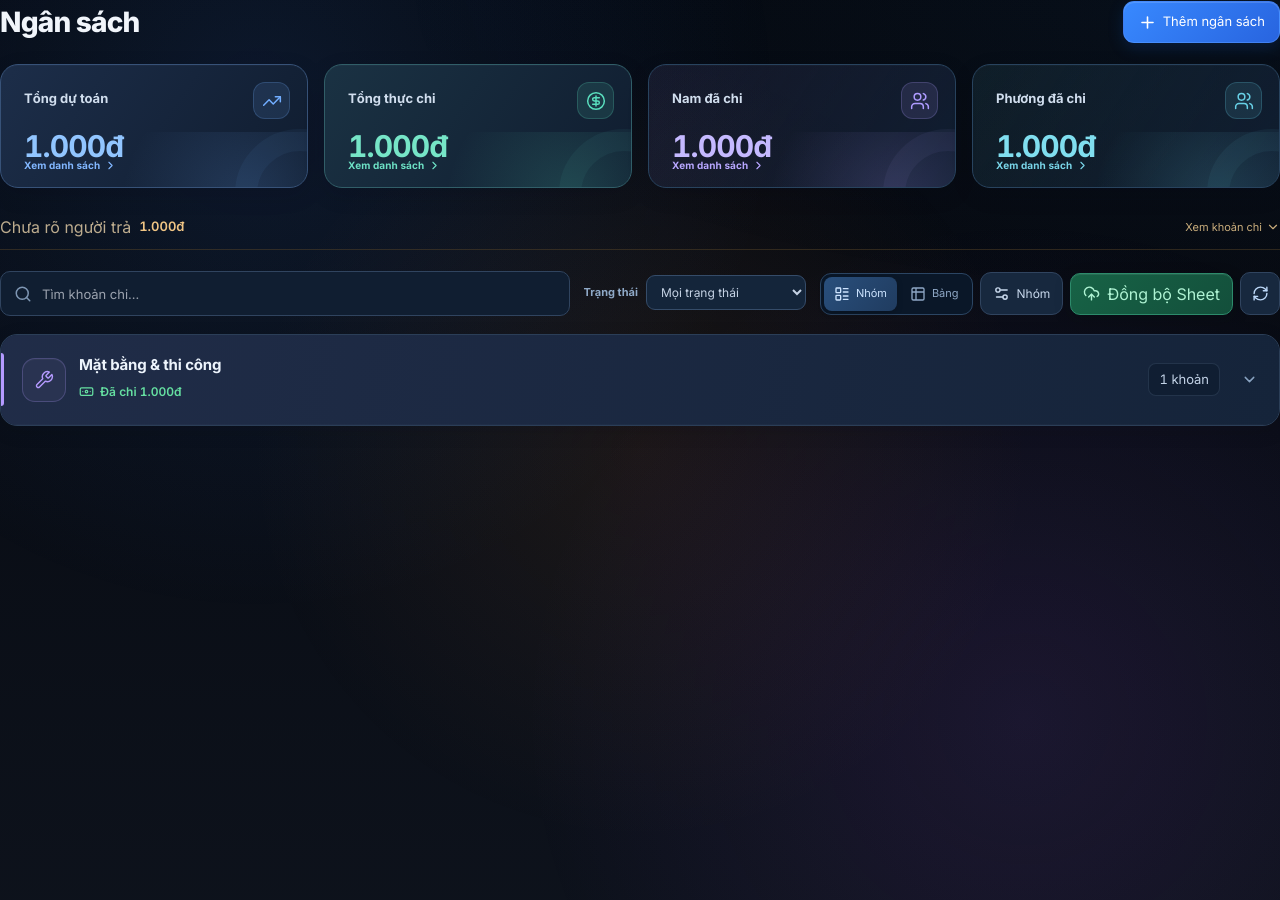
it: Checklist and Budget interactions › opens each owner budget card as a payment drill-down
Click the button with aria-label "Xem nam đã chi (1.000đ)". click: click(920, 100)
box: [648, 64, 956, 188]
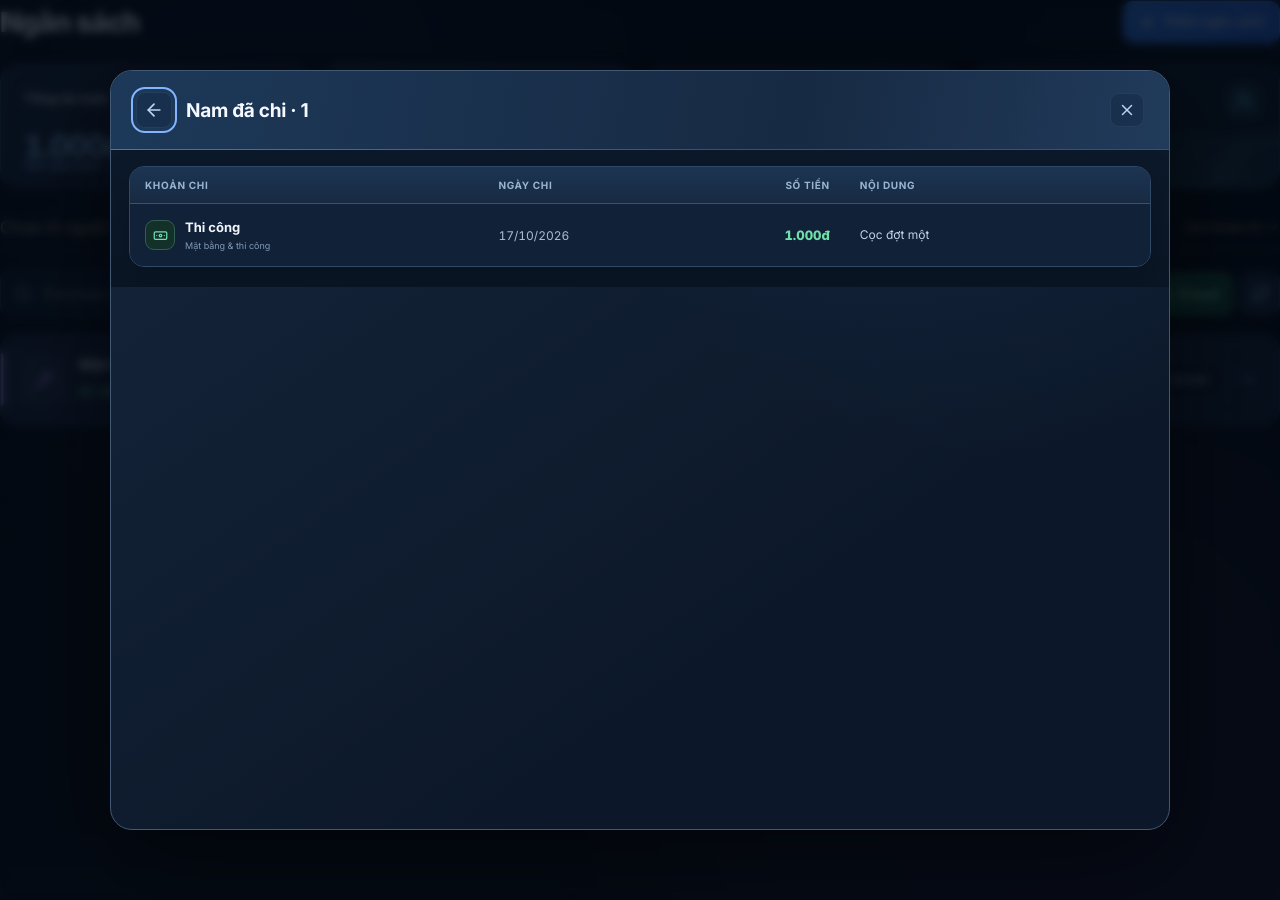
Check: the column headings read "Khoản chi", "Ngày chi", "Số tiền", "Nội dung", in this order, box [130, 167, 483, 204]; [483, 167, 660, 204]; [660, 167, 845, 204]; [845, 167, 1150, 204]
Check: the text "Cọc đợt một" is shown, box [845, 204, 1150, 266]
Check: the text "Thi công" is shown, box [185, 219, 240, 235]
